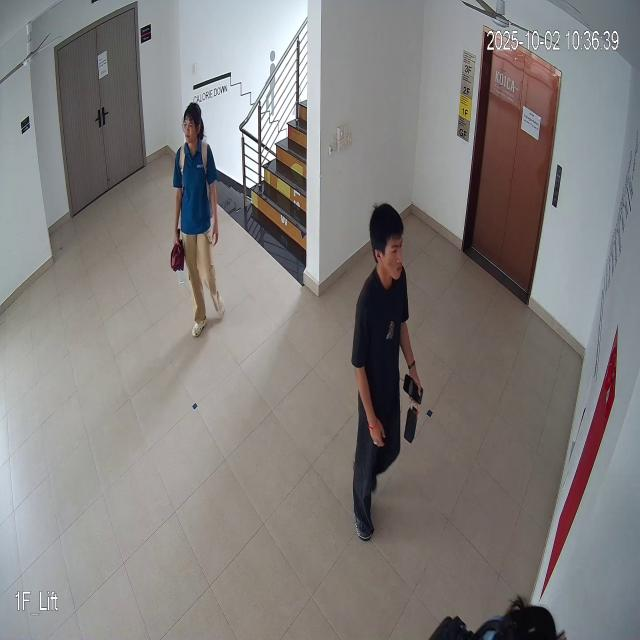face: (367, 197, 407, 286), (181, 96, 204, 150)
